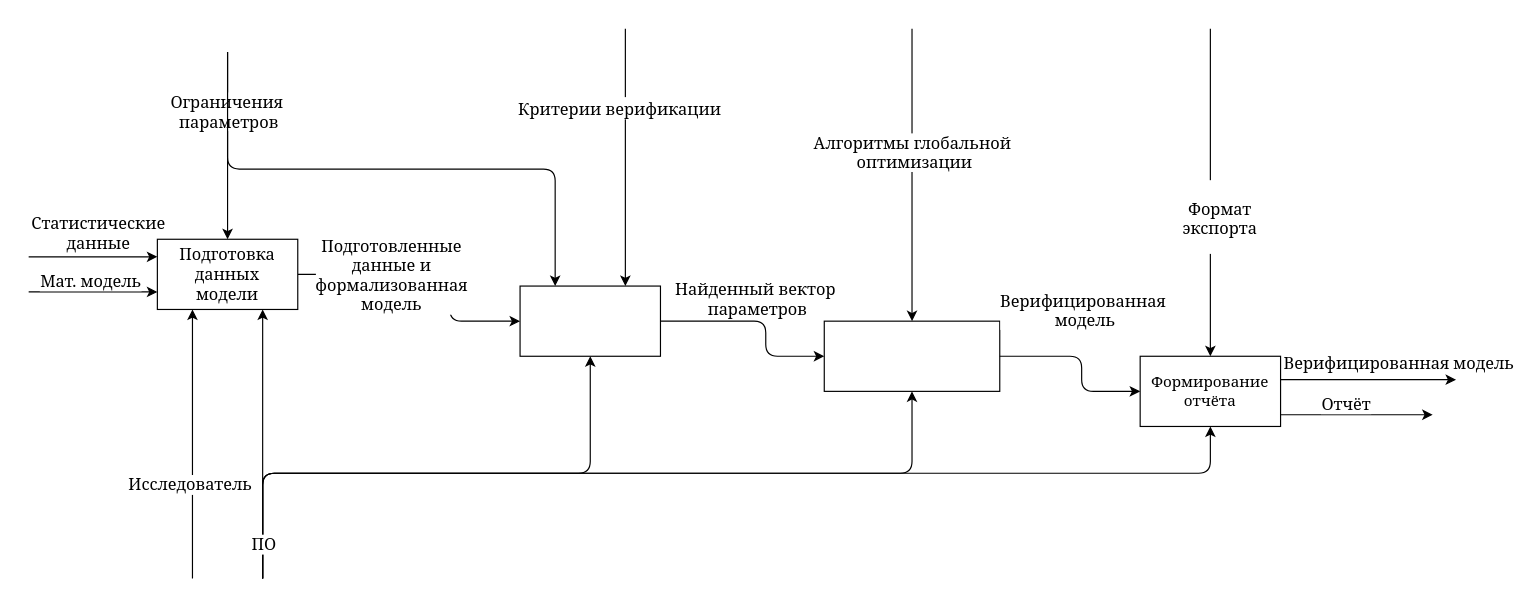
Some shapes in this 1534 by 608 pixel diagram are drawn without their labels. The centre of each missing label's shape, as x and y in pixels:
"Верификация и анализ адекватности" goes at point (911, 355).
"Глобальная оптимизация параметров" goes at point (589, 320).
